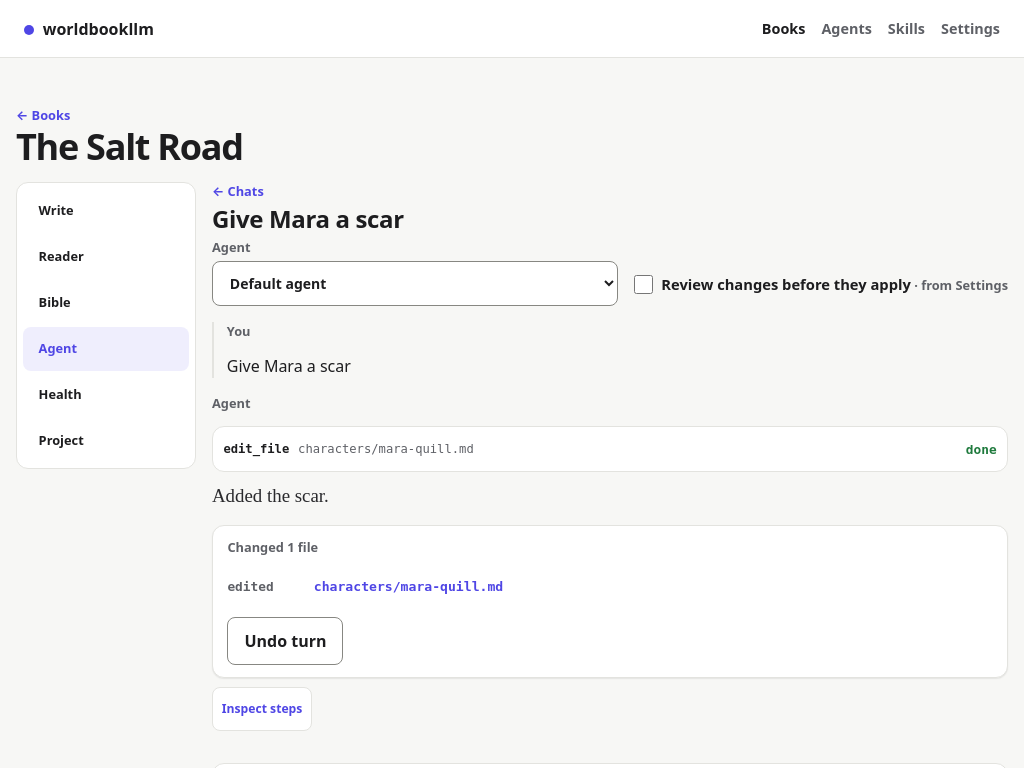
Scenario: agent tab › opens a file diff and undoes the turn
Click the button "edited characters/mara-quill.md": [251, 587] box [227, 565, 993, 609]
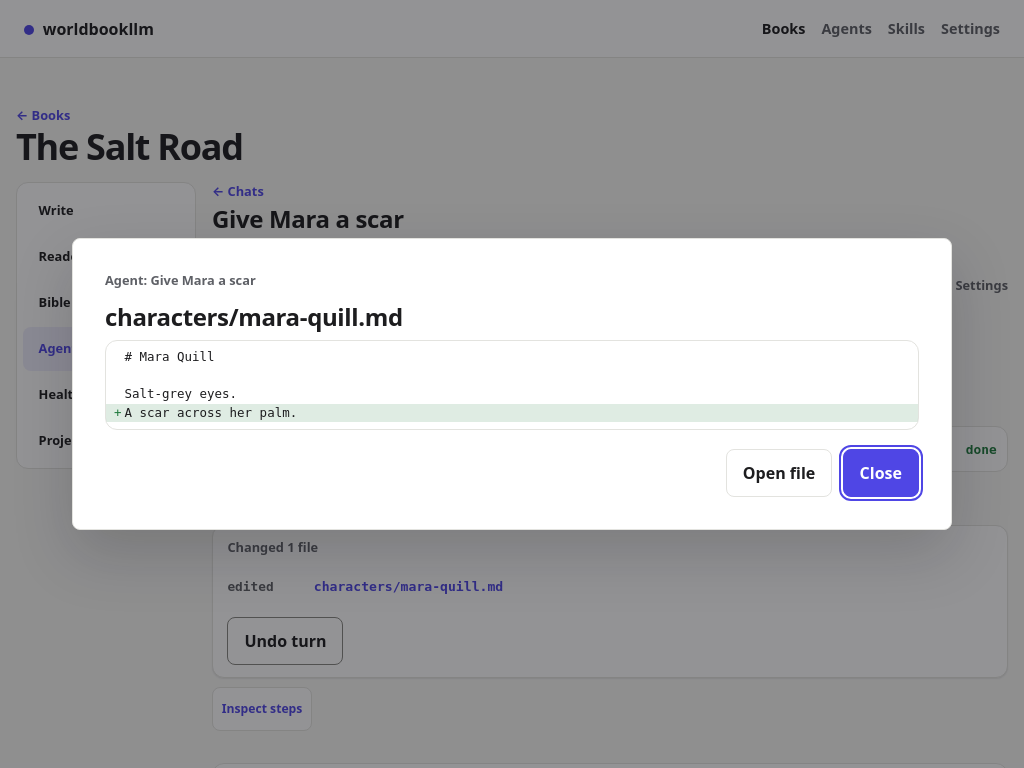
Click the button "Close": [881, 473] box [843, 449, 919, 497]
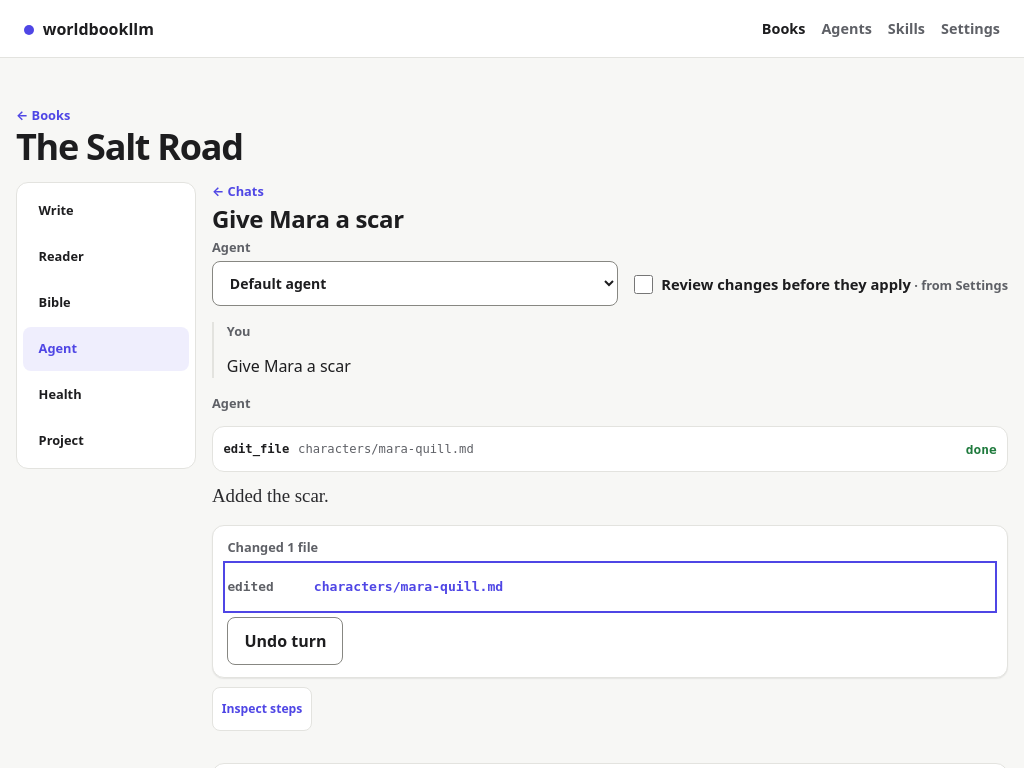
Click the button "Undo turn": [285, 641] box [227, 617, 343, 666]
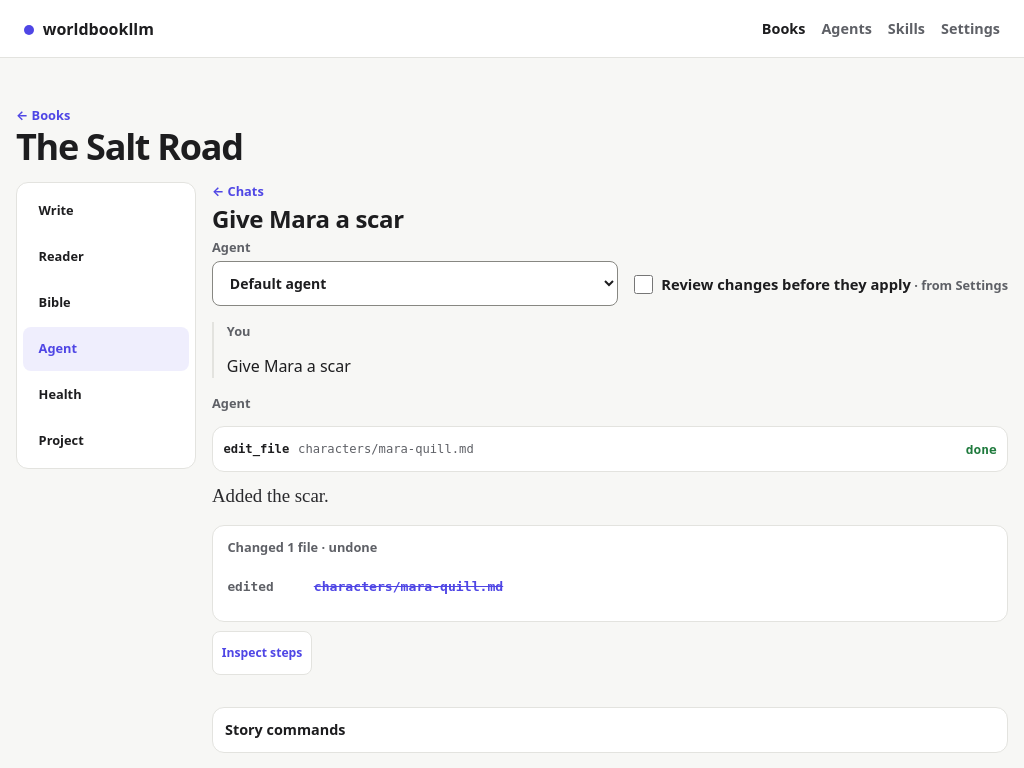
Result: the text "Changed 1 file · undone" is shown at [227, 538, 377, 557]
